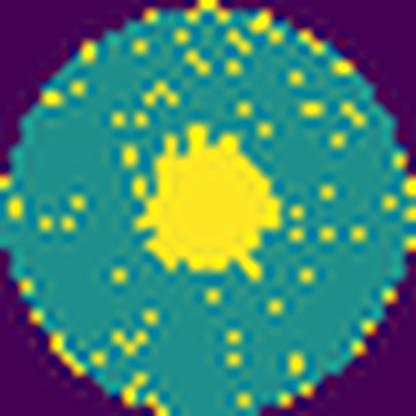Center: (134, 120, 283, 279)
